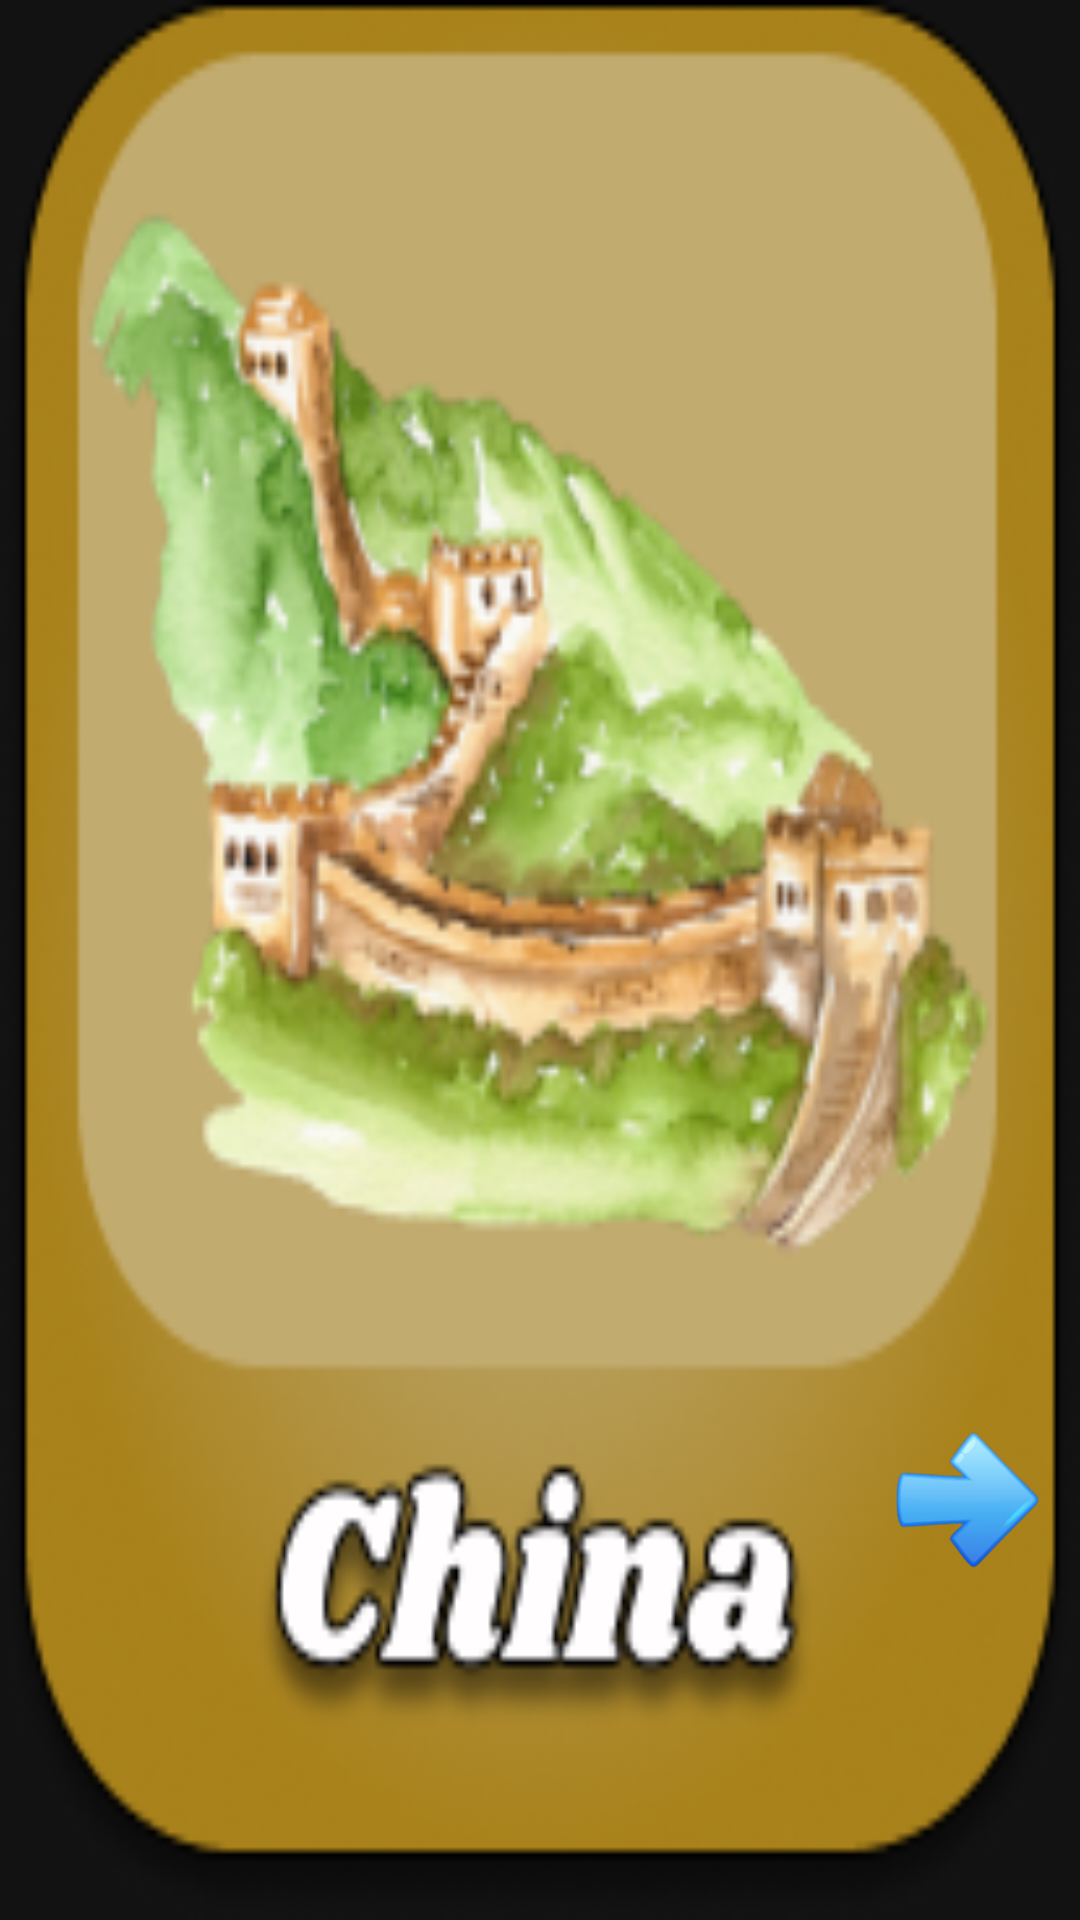

Icon click points for this 1080px x 1920px phone screenshot, format (x,y):
next: (967,1500)
